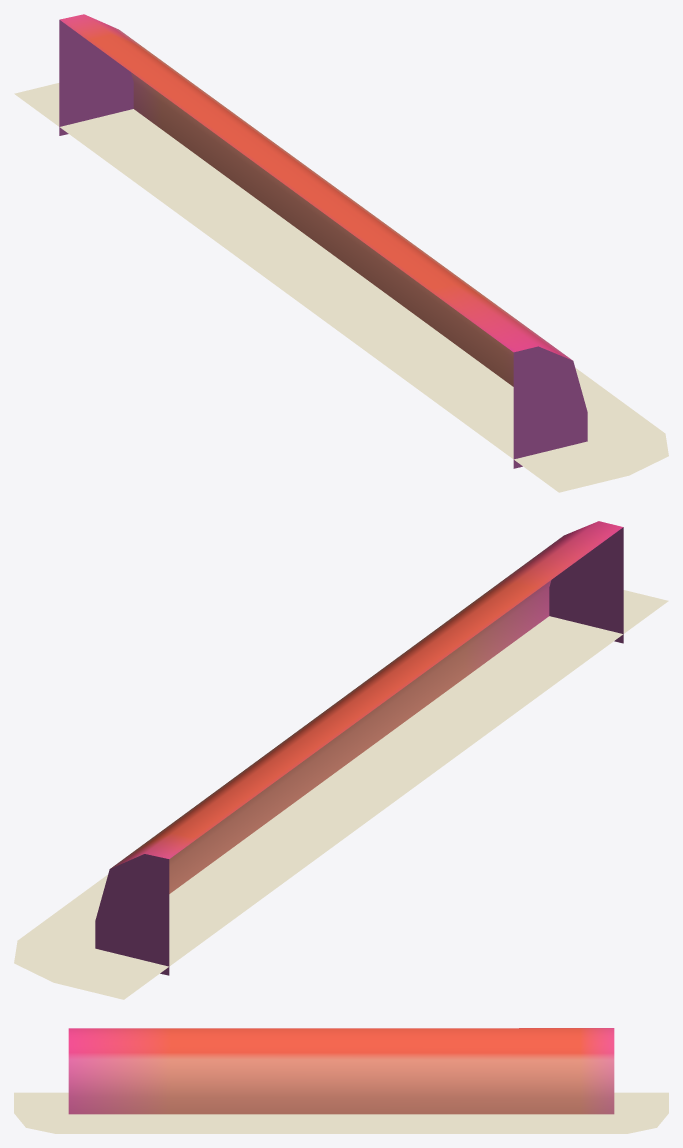
File: WaterfallWasteland.D.glb
3 renders of one model, top to bottom at view 1: azimuth 30°, elevation 25°; view 2: azimuth 150°, elevation 25°; view 3: azimuth 270°, elevation 25°, orthographic. The views are drawn at different scales.
Visible parts, largest first — view 1: WaterfallWasteland.D; view 2: WaterfallWasteland.D; view 3: WaterfallWasteland.D.
Part boxes in pixels (<box>): WaterfallWasteland.D: <box>14,14,668,492</box>; WaterfallWasteland.D: <box>14,521,668,999</box>; WaterfallWasteland.D: <box>14,1028,668,1133</box>.
Bounding box in the file's own units: 0.375 × 0.302 × 2.52.
1 material, 1 textured.
